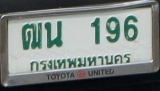txt13: (20, 21, 43, 51)
txt20: (44, 19, 64, 49)
